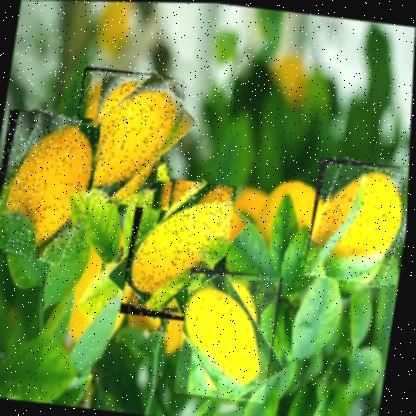lemon: (65, 64, 188, 210), (121, 173, 239, 324), (0, 107, 104, 264), (175, 265, 286, 402), (304, 155, 410, 286)
